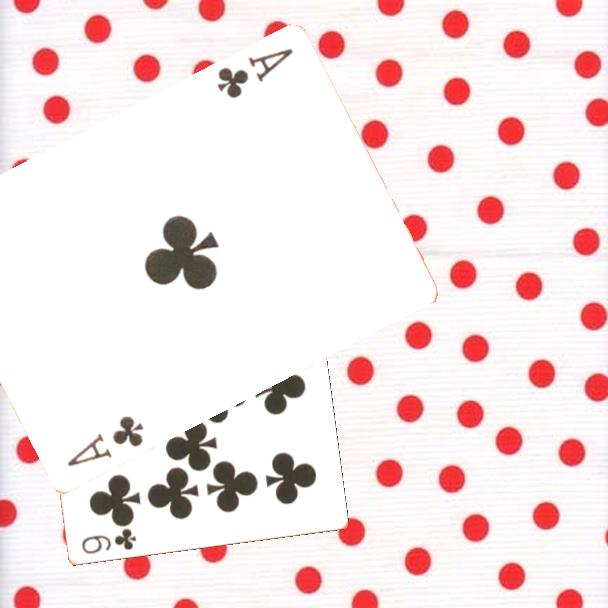c01: (63, 412, 147, 470), (213, 45, 296, 102)
c09: (78, 526, 139, 557)
